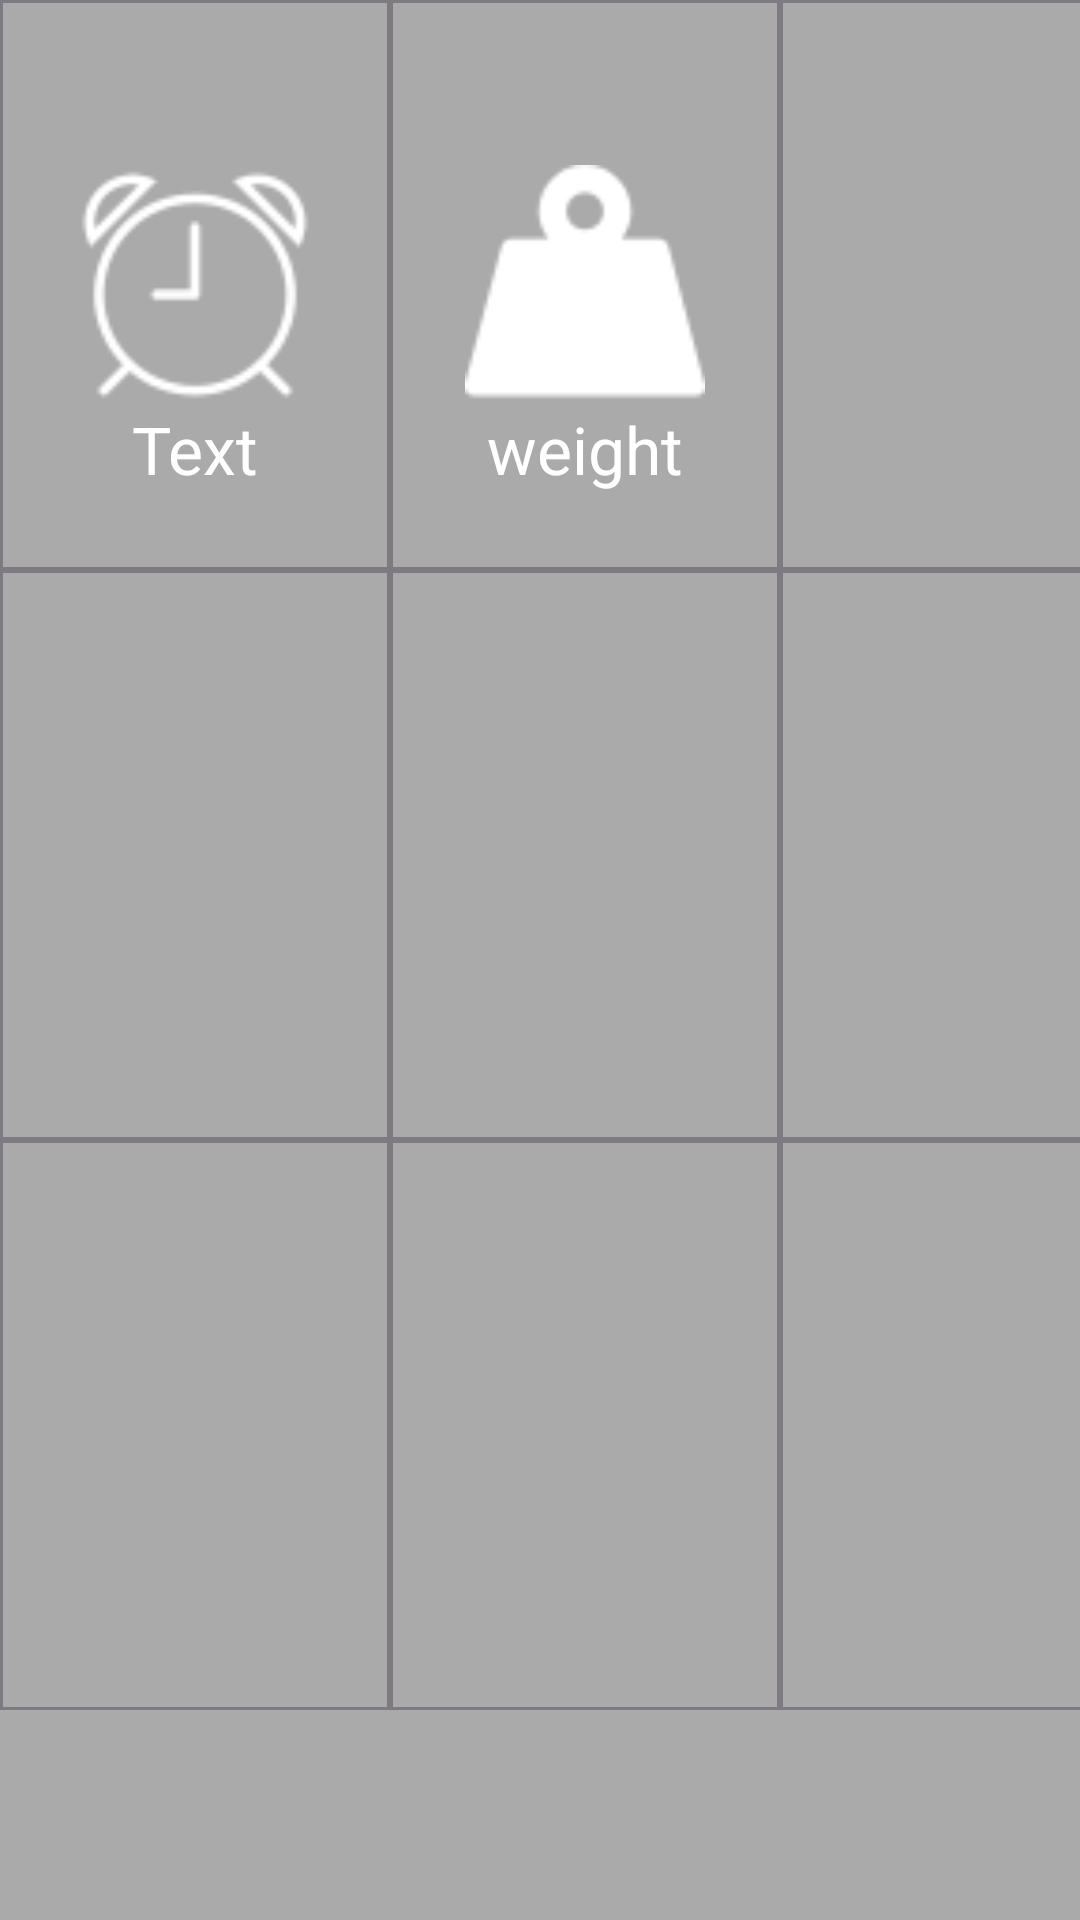

Icons on this 1080px×1920px Android screen, each with the point to tap as [x,y]:
time: [195,285]
